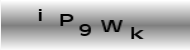9: (78, 23, 91, 37)
P: (57, 13, 73, 27)
W: (99, 18, 123, 33)
i: (36, 9, 44, 22)
k: (129, 25, 145, 41)
